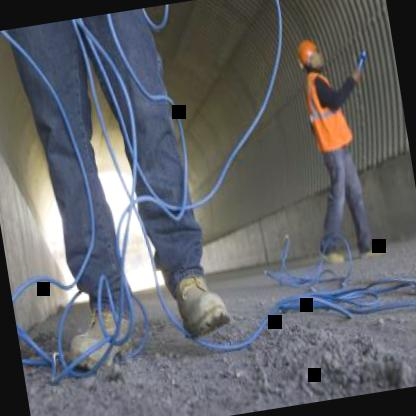helmet: (294, 34, 328, 81)
